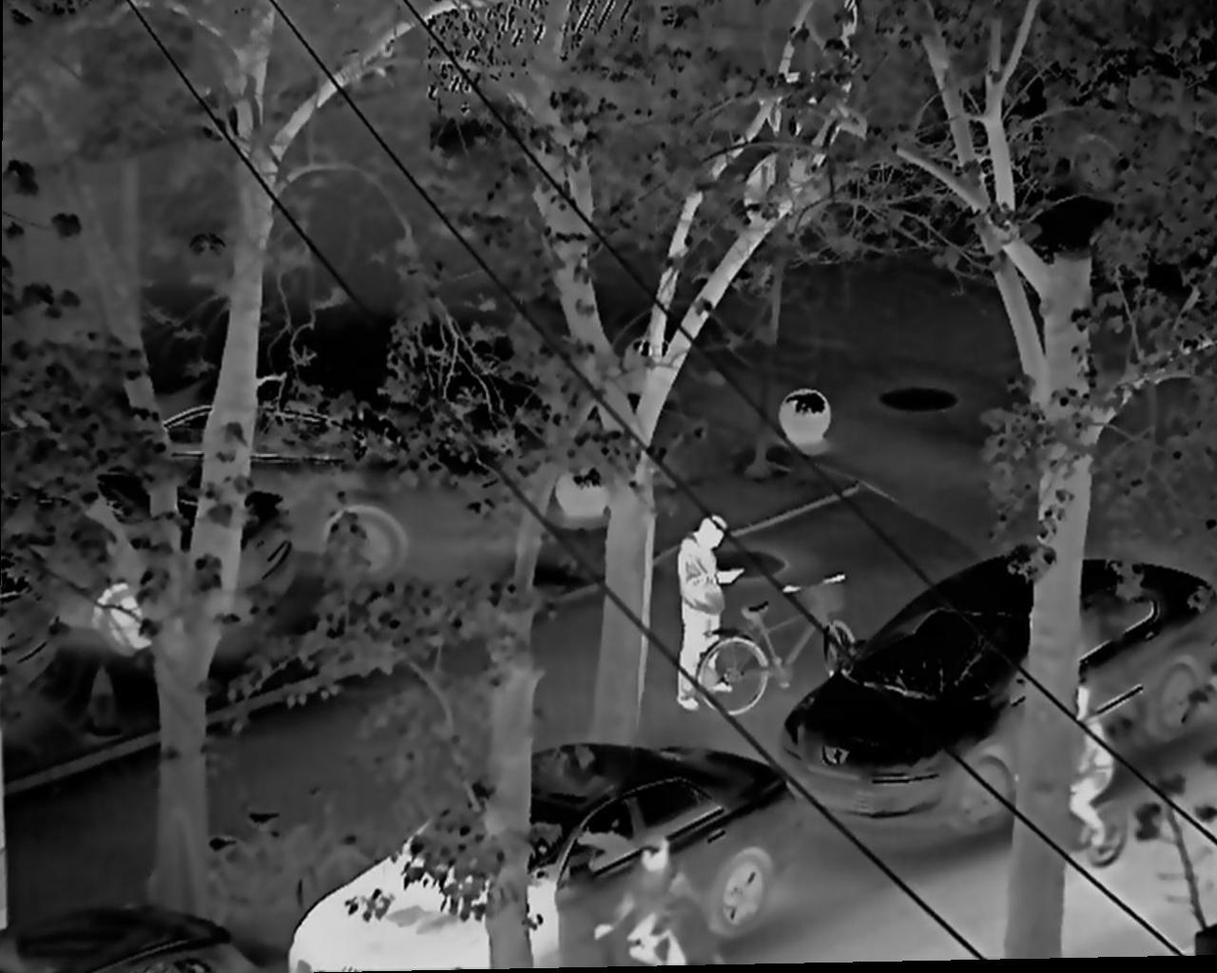person: (674, 514, 752, 713), (594, 834, 704, 973), (1071, 686, 1114, 851)
